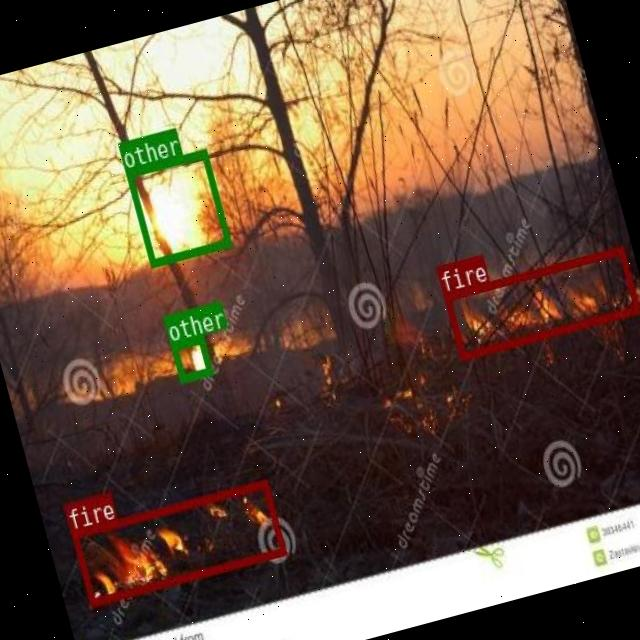fire: (70, 478, 286, 606), (442, 245, 640, 359)
